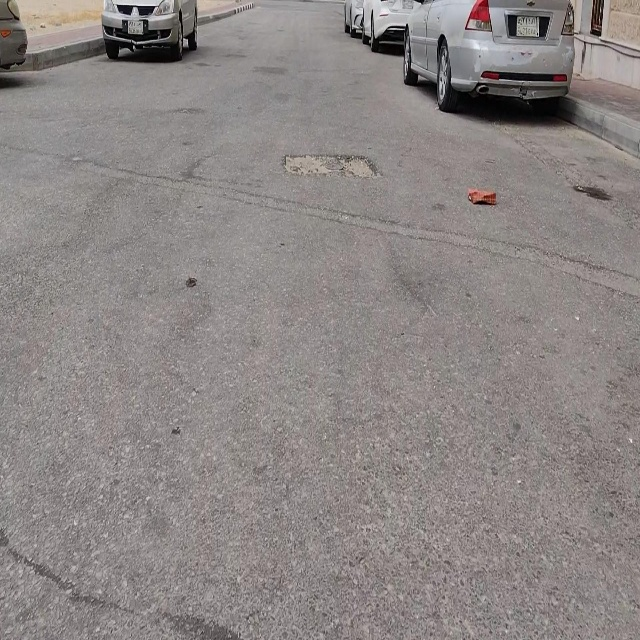pothole: (284, 152, 378, 174)
